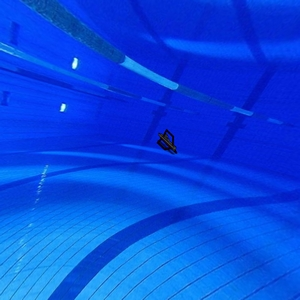submarine: (152, 129, 182, 159)
